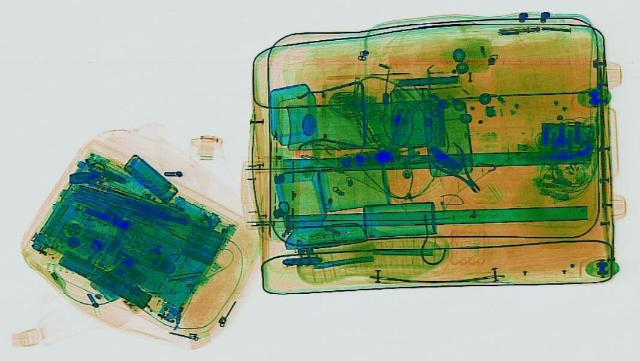Pliers: (420, 140, 490, 195)
